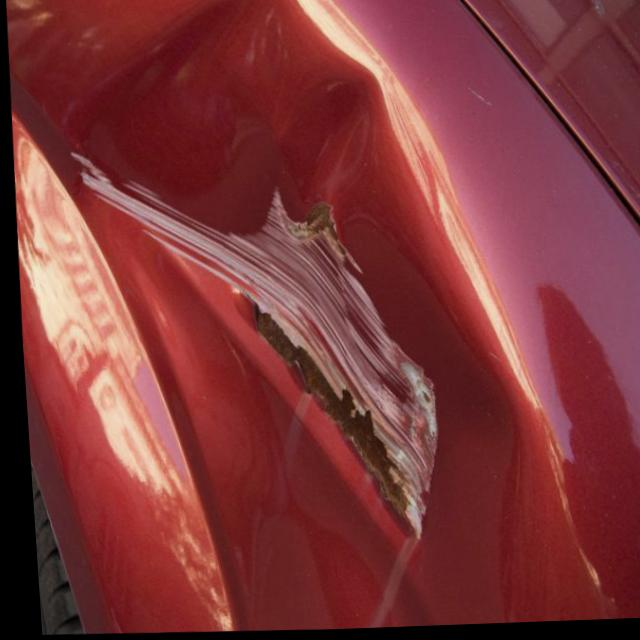Dent: (27, 0, 518, 615)
Paint-fading: (247, 297, 414, 533), (291, 197, 357, 269)
Scratch: (66, 142, 442, 628)
